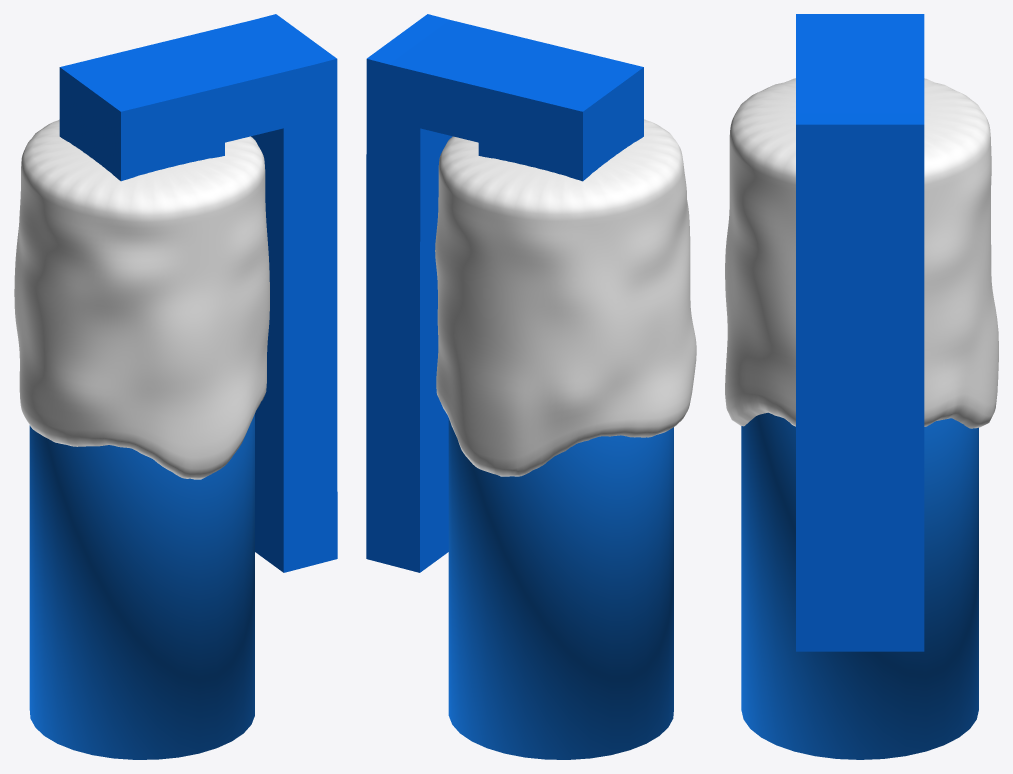
File: FreezeGranade.fbx
The picture shows the model from 3 angles, left to right: view 1: azimuth 30°, elevation 25°; view 2: azimuth 150°, elevation 25°; view 3: azimuth 270°, elevation 25°; orthographic projection. The views are drawn at different scales.
Visible parts, largest first — view 1: Snow, FreezeGrenadeBody, Pin; view 2: Snow, FreezeGrenadeBody, Pin; view 3: Pin, FreezeGrenadeBody, Snow.
Part boxes in pixels (left/top/right/bottom): Snow: left=14, top=119, right=269, bottom=479; FreezeGrenadeBody: left=29, top=414, right=254, bottom=759; Pin: left=59, top=14, right=337, bottom=572; Snow: left=435, top=119, right=696, bottom=476; FreezeGrenadeBody: left=448, top=418, right=673, bottom=759; Pin: left=366, top=14, right=643, bottom=572; Pin: left=796, top=14, right=924, bottom=651; FreezeGrenadeBody: left=741, top=412, right=978, bottom=759; Snow: left=725, top=78, right=998, bottom=428.
Bounding box in the file's own units: 286 × 621 × 230.
